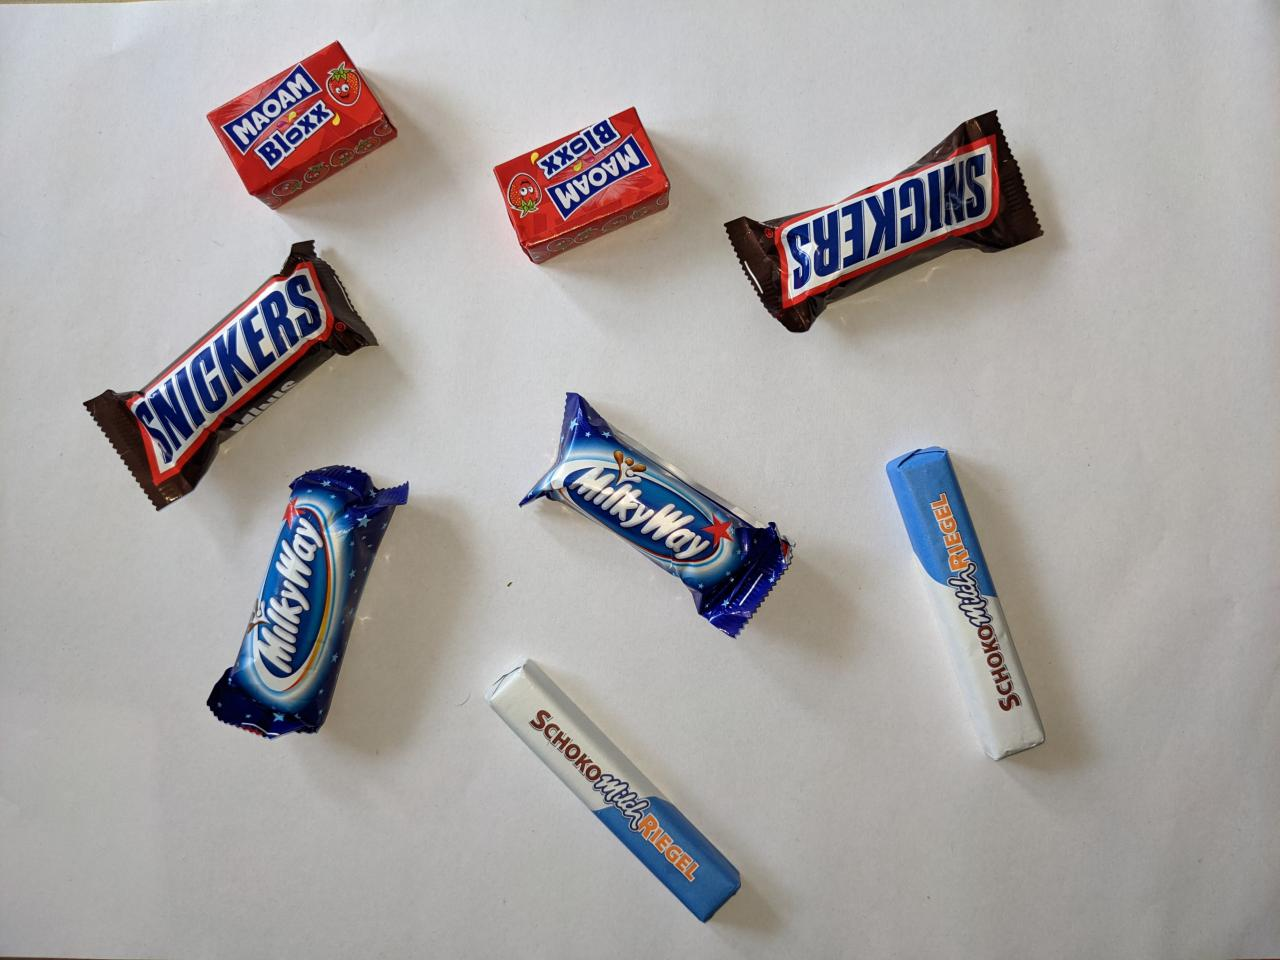MAOAM: (203, 37, 401, 217), (489, 103, 677, 269)
MilkyWay: (516, 386, 802, 643), (202, 462, 416, 745)
Schokoriegel: (478, 652, 747, 931), (883, 441, 1049, 766)
Snickers: (80, 235, 384, 517), (721, 106, 1050, 335)
